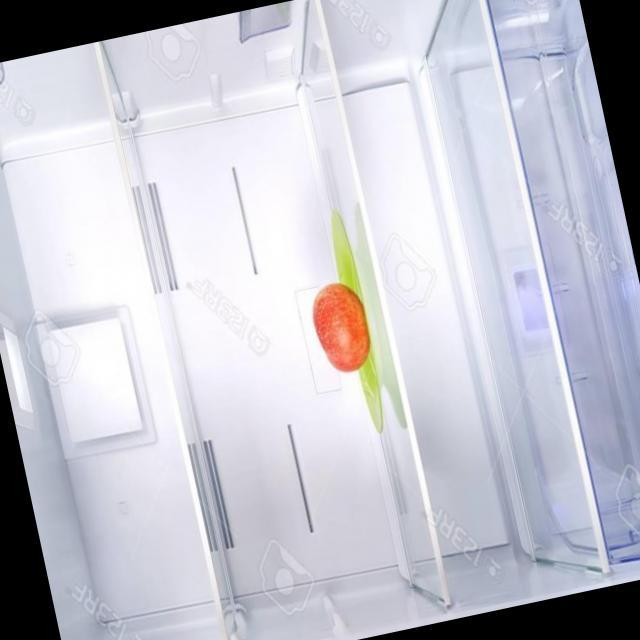Manzana: (304, 275, 376, 374)
